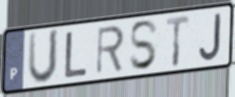J: (198, 12, 223, 63)
L: (63, 30, 90, 80)
R: (95, 23, 126, 77)
S: (128, 18, 160, 73)
T: (165, 14, 192, 69)
U: (26, 27, 61, 87)
